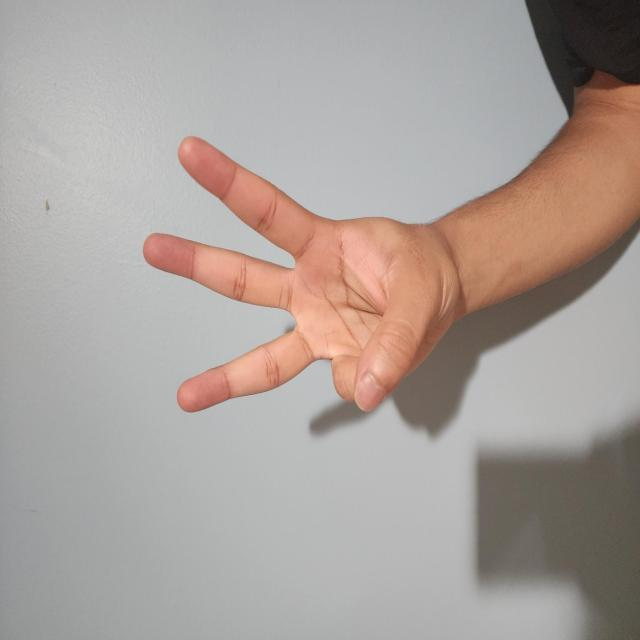W: (163, 189, 380, 616)
